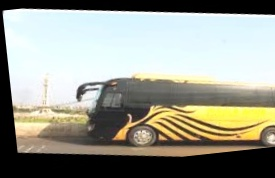bus: (66, 50, 275, 168)
